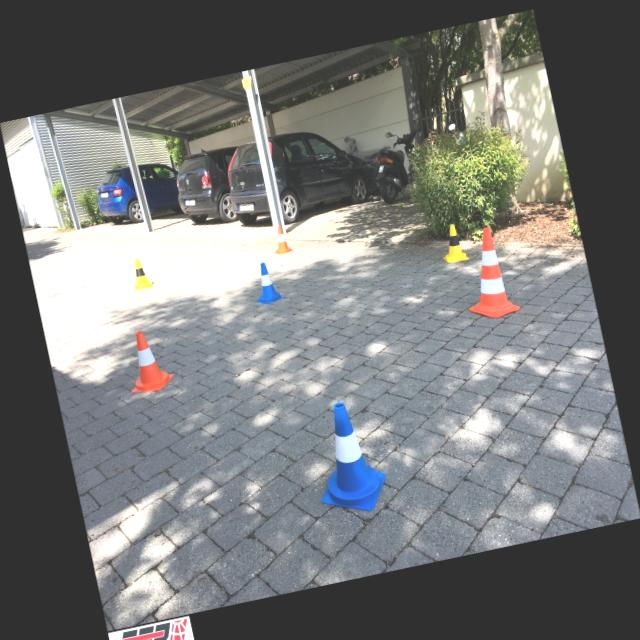blue_cone: (302, 396, 392, 519), (248, 260, 284, 306)
large_orange_cone: (454, 224, 520, 322)
orange_cone: (119, 326, 175, 395), (270, 224, 294, 254)
yellow_cone: (436, 222, 468, 264), (128, 256, 154, 290)
